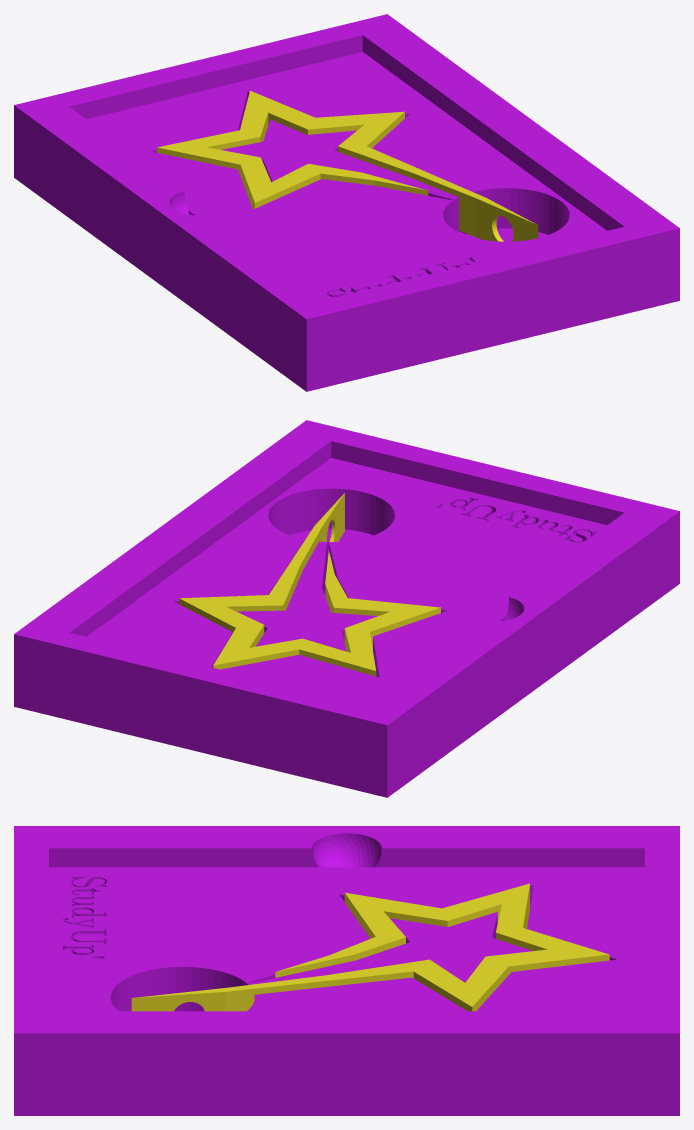
The model's file is étoile_boite.glb.
The picture shows the model from 3 angles, top to bottom: view 1: azimuth 30°, elevation 25°; view 2: azimuth 150°, elevation 25°; view 3: azimuth 270°, elevation 25°; orthographic projection. The views are drawn at different scales.
Visible parts, largest first — view 1: porte_clé_étoile; view 2: porte_clé_étoile; view 3: porte_clé_étoile.
Boxes of the visible parts, x1,y1,x2,y2 form: porte_clé_étoile: [14, 14, 679, 391]; porte_clé_étoile: [14, 420, 679, 797]; porte_clé_étoile: [14, 826, 679, 1115].
Bounding box in the file's own units: 70 × 14 × 95.
